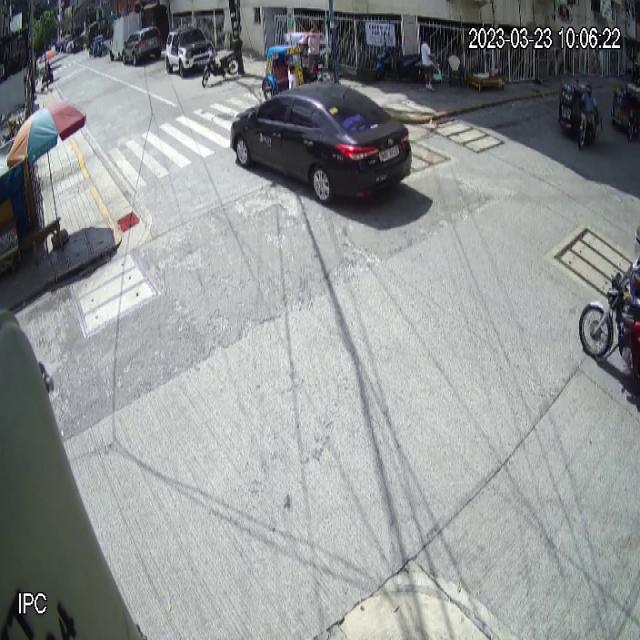Car: (230, 78, 412, 206)
Tricycle: (558, 78, 604, 151)
